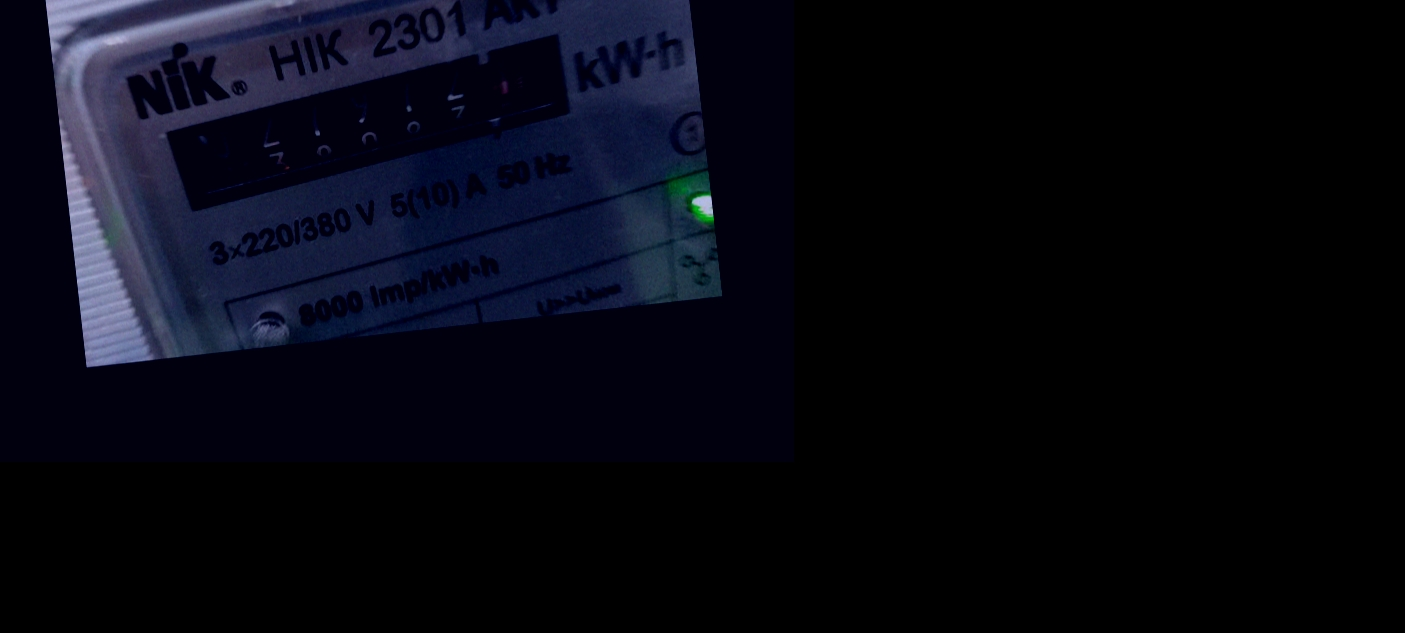0: (203, 122, 235, 161)
1: (490, 54, 517, 99)
2: (251, 108, 284, 150), (437, 63, 469, 103)
7: (391, 74, 421, 117), (300, 100, 327, 139)
9: (346, 88, 376, 125)
screen: (143, 21, 609, 224)
